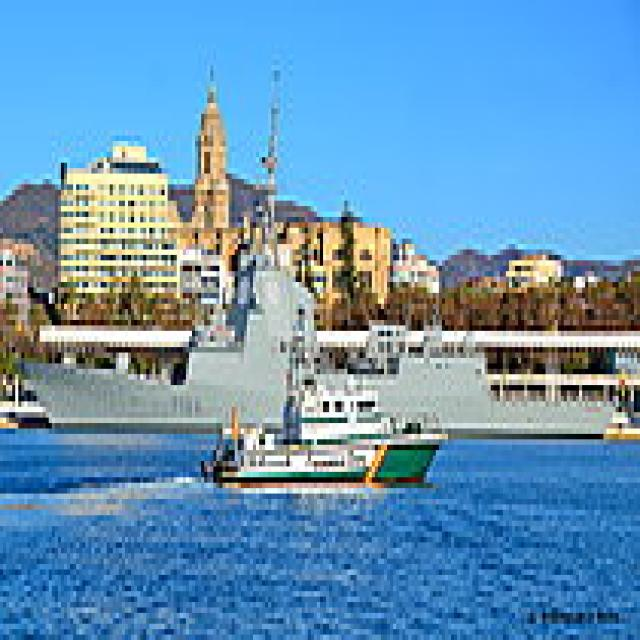Warship: (9, 239, 610, 439)
